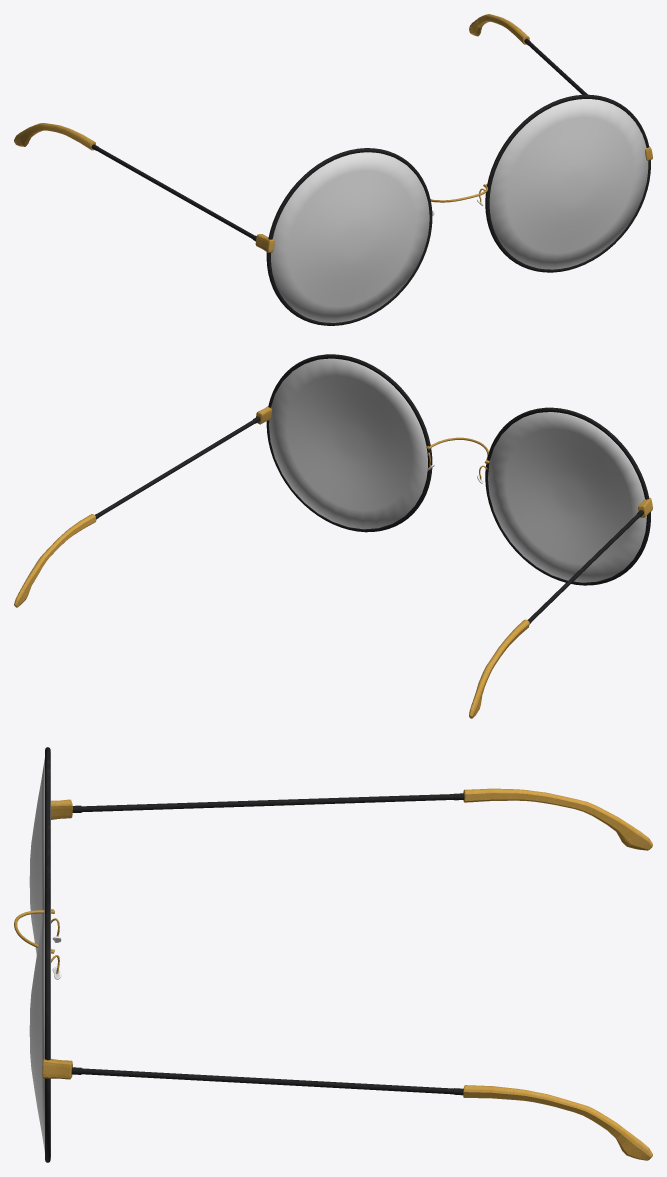
Rendered from glasses_lentes_circulares.glb.
3 renders of one model, top to bottom at view 1: azimuth 30°, elevation 25°; view 2: azimuth 150°, elevation 25°; view 3: azimuth 270°, elevation 25°, orthographic. The views are drawn at different scales.
Visible parts, largest first — view 1: Circle.001, Circle, Cube.001; view 2: Circle.001, Circle, Cube.001; view 3: Cube.001, Circle.001, Circle.
Part boxes in pixels (x1,y1,x2,y2): Circle.001: [271, 99, 648, 322]; Circle: [266, 94, 650, 325]; Cube.001: [14, 14, 652, 252]; Circle.001: [269, 358, 646, 582]; Circle: [266, 354, 650, 585]; Cube.001: [14, 406, 652, 718]; Cube.001: [42, 788, 652, 1160]; Circle.001: [29, 753, 50, 1157]; Circle: [45, 747, 50, 1162].
Size of the model in its own units: 5.45 by 1.97 by 4.71.
4 materials, 3 textured.
